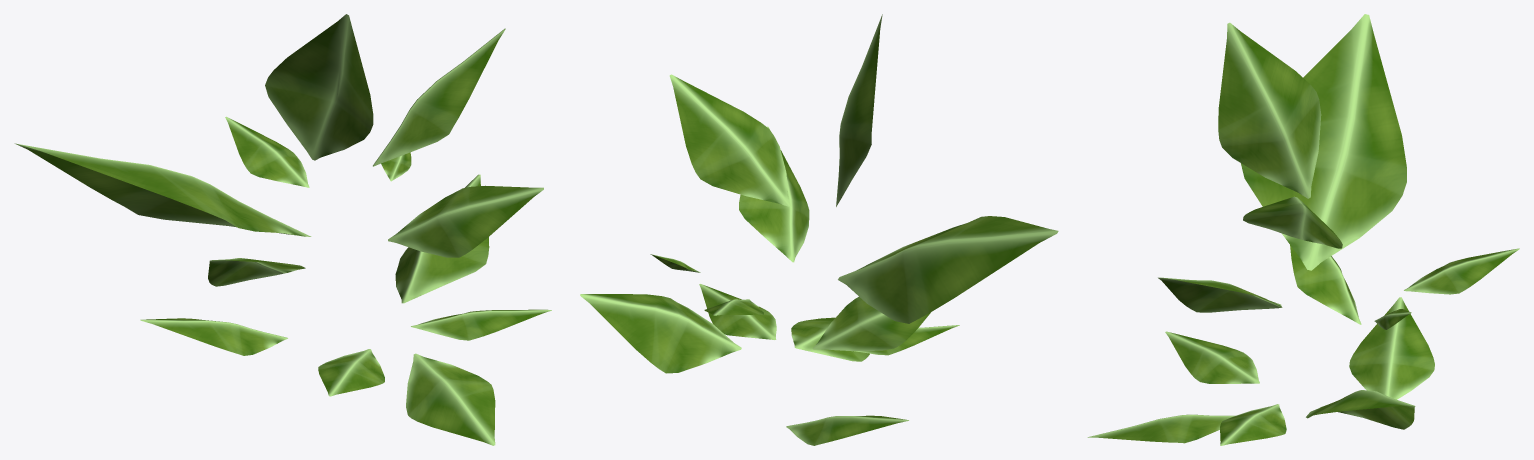
The model's file is plantSmall2_leaves.fbx.
The picture shows the model from 3 angles, left to right: view 1: azimuth 30°, elevation 25°; view 2: azimuth 150°, elevation 25°; view 3: azimuth 270°, elevation 25°; orthographic projection. The views are drawn at different scales.
Parts seen in each view (by area): view 1: polySurface72; view 2: polySurface72; view 3: polySurface72.
Boxes of the visible parts, x1,y1,x2,y2 form: polySurface72: [14, 14, 551, 445]; polySurface72: [580, 14, 1058, 445]; polySurface72: [1087, 14, 1519, 445].
Bounding box in the file's own units: 4006 × 3110 × 3189.
Materials: 1 (1 with a texture image).
